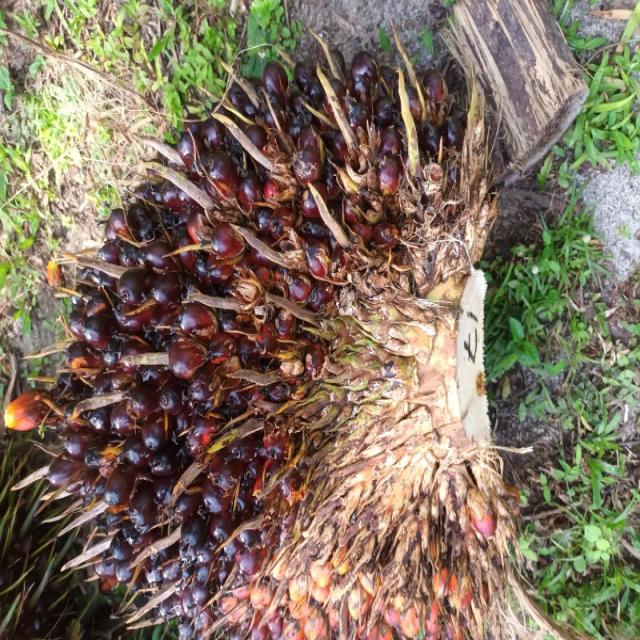fraksi 1: (78, 0, 615, 552)
